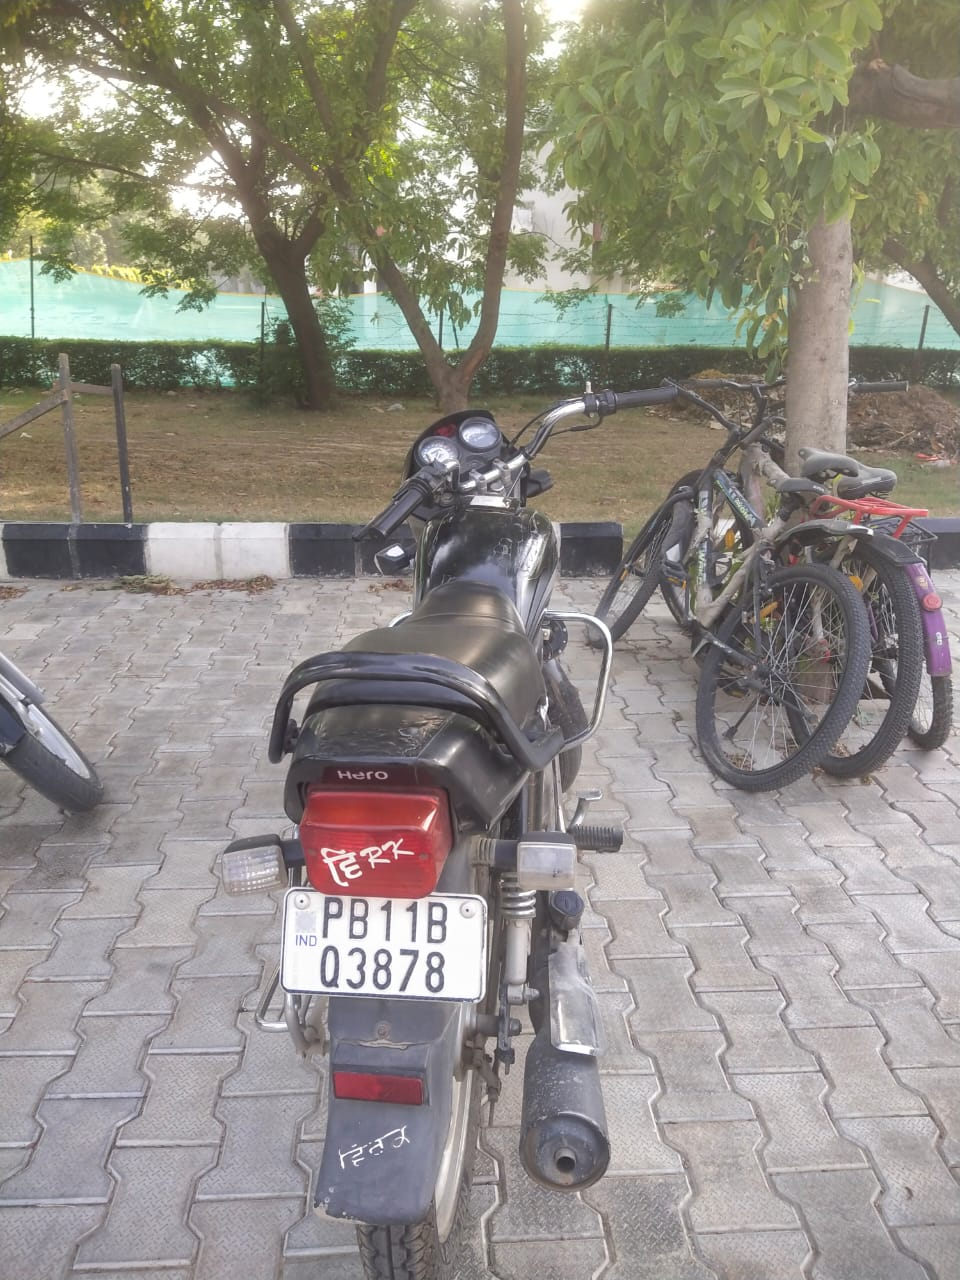license plate: (281, 888, 486, 1000)
